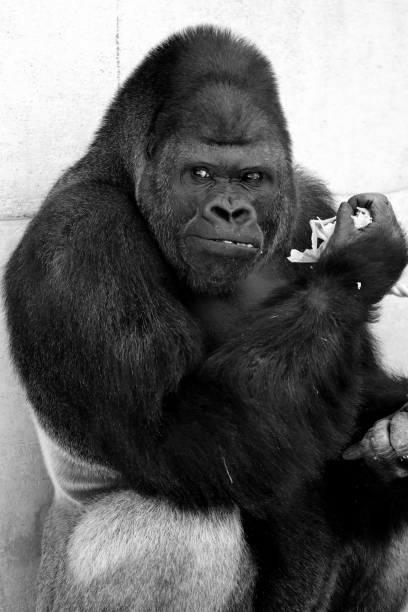gorille_Autres: (8, 4, 398, 602)
